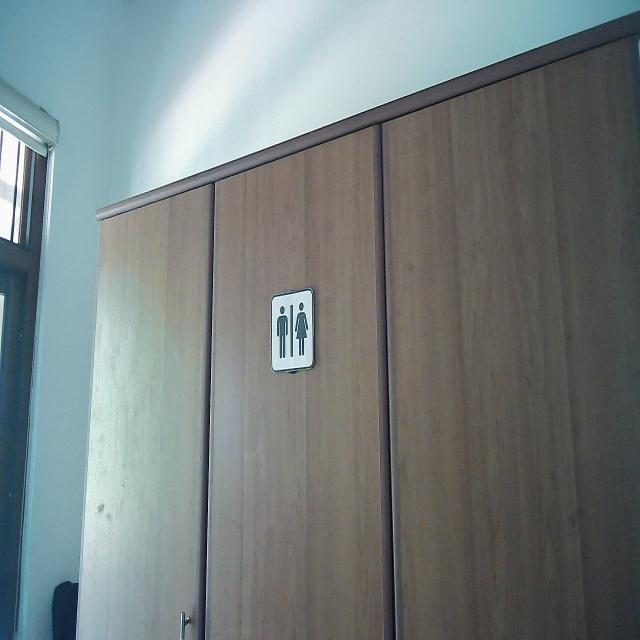restroom: (270, 288, 316, 373)
